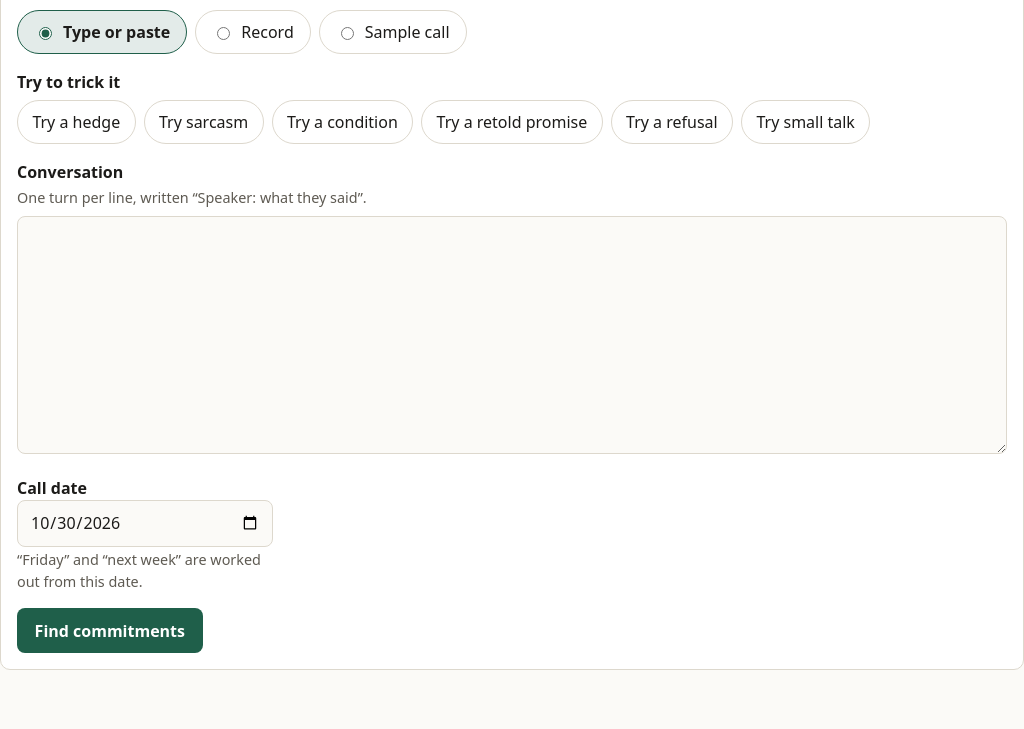
Scenario: Demo in sample mode › starts the job from the clip id and shows the results
Expected: the date field labelled "Call date" is not empty, x1=17 y1=500 x2=273 y2=547
Click the radio button labelled "Sample call". click: {"x": 347, "y": 34}
box: x1=341 y1=27 x2=354 y2=40
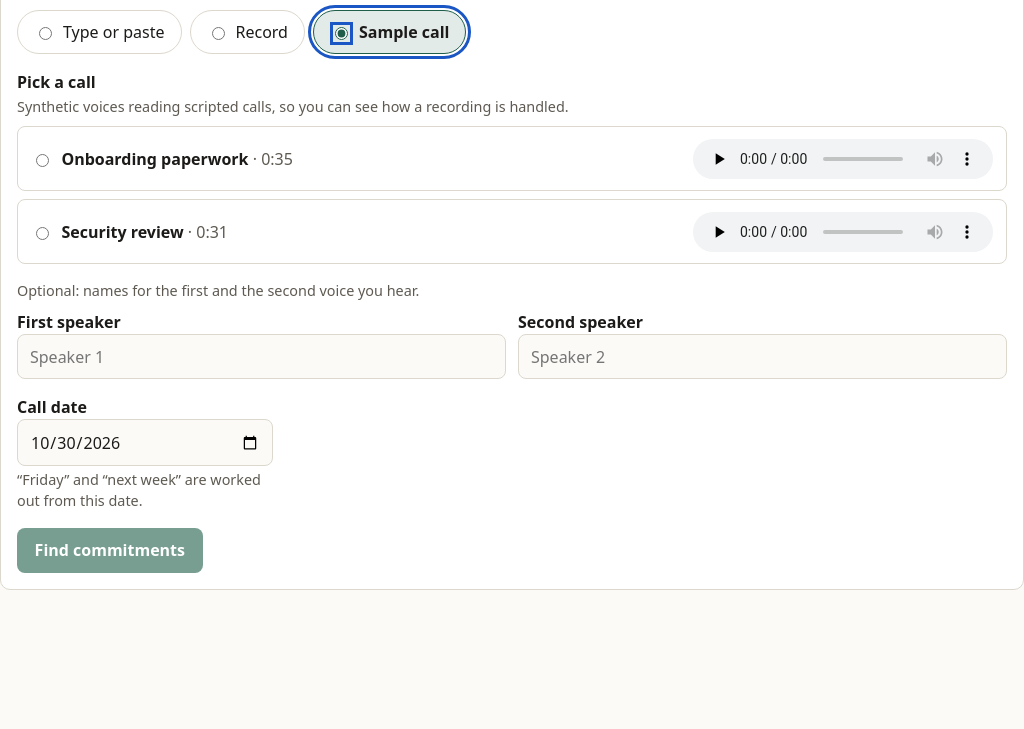
Click the radio button labelled "Security review · 0:31". click: {"x": 42, "y": 233}
box: x1=36 y1=227 x2=49 y2=240
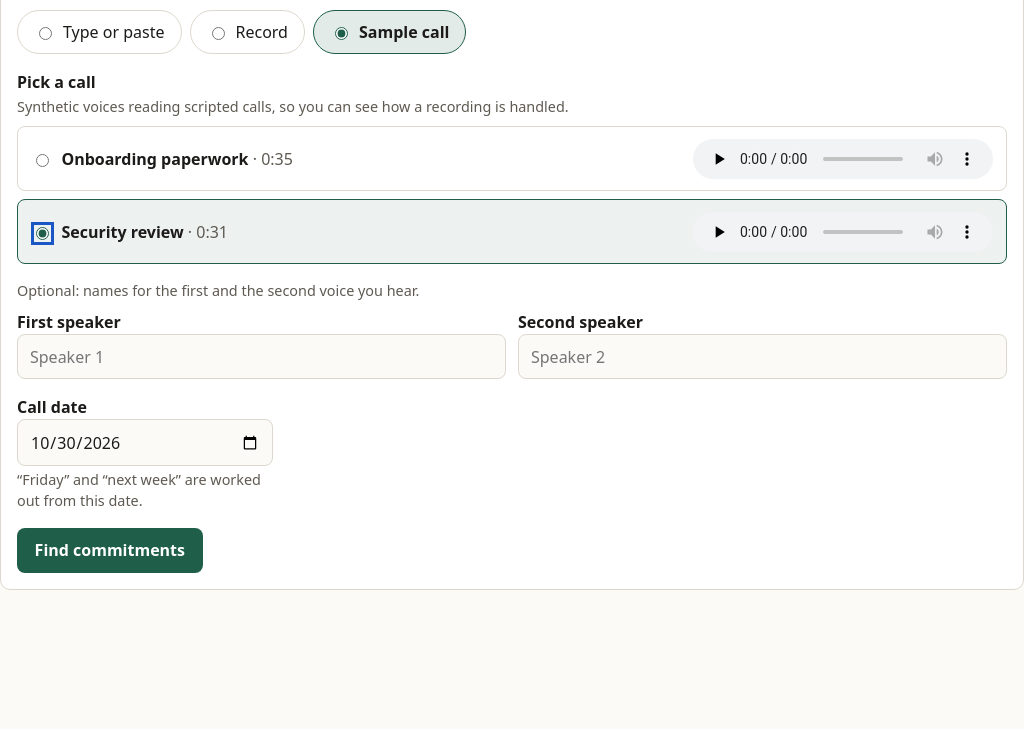
Type "Mei" into the field labelled "First speaker". click: {"x": 262, "y": 357}
box: x1=17 y1=334 x2=506 y2=379
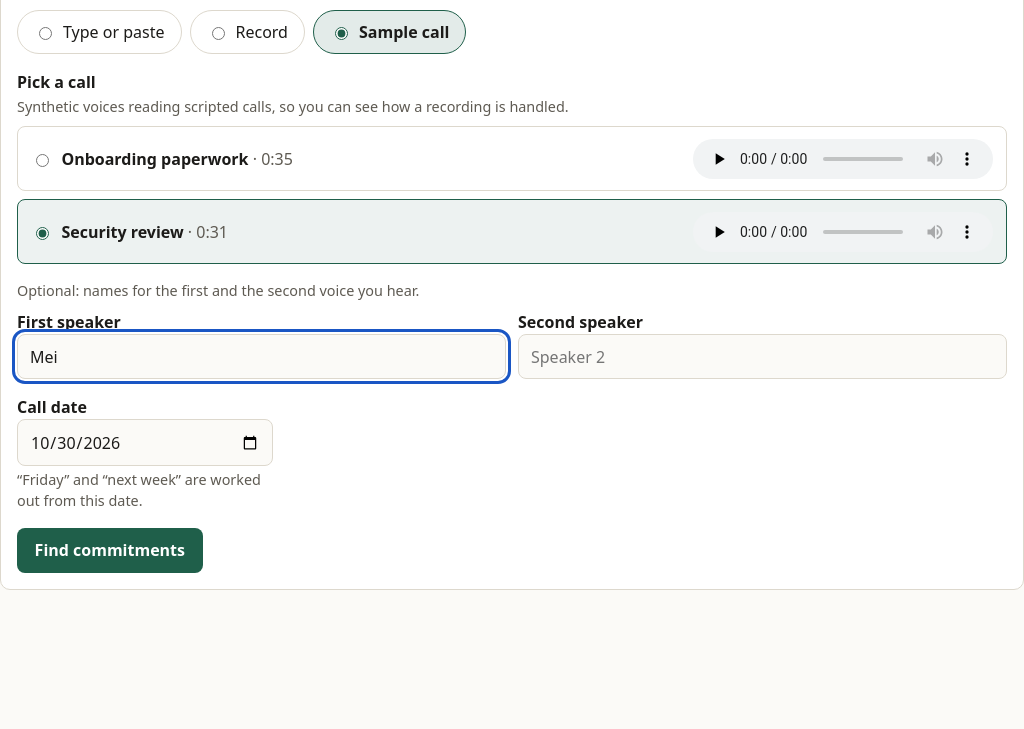
Click the button "Find commitments". click: {"x": 110, "y": 550}
box: x1=17 y1=528 x2=203 y2=573
(page scrolled)
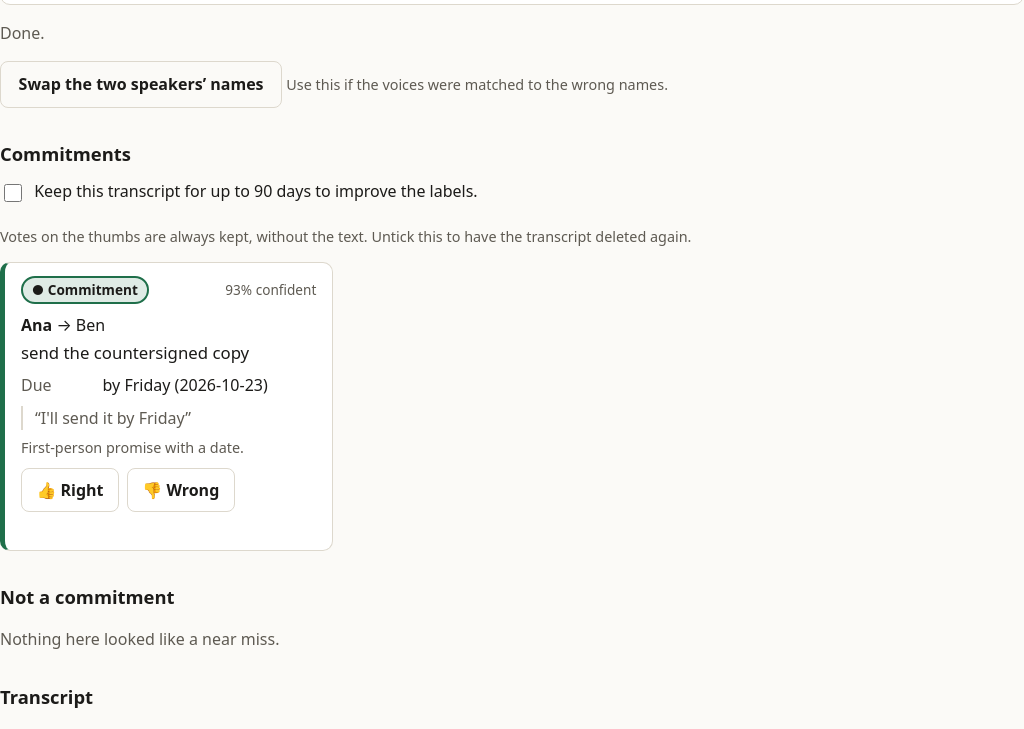
Expected: the element "Commitments" is shown, x1=0 y1=140 x2=692 y2=551
